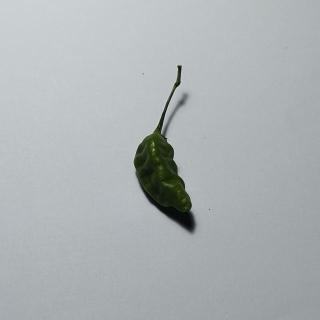Cabai Hijau: (128, 63, 200, 223)
